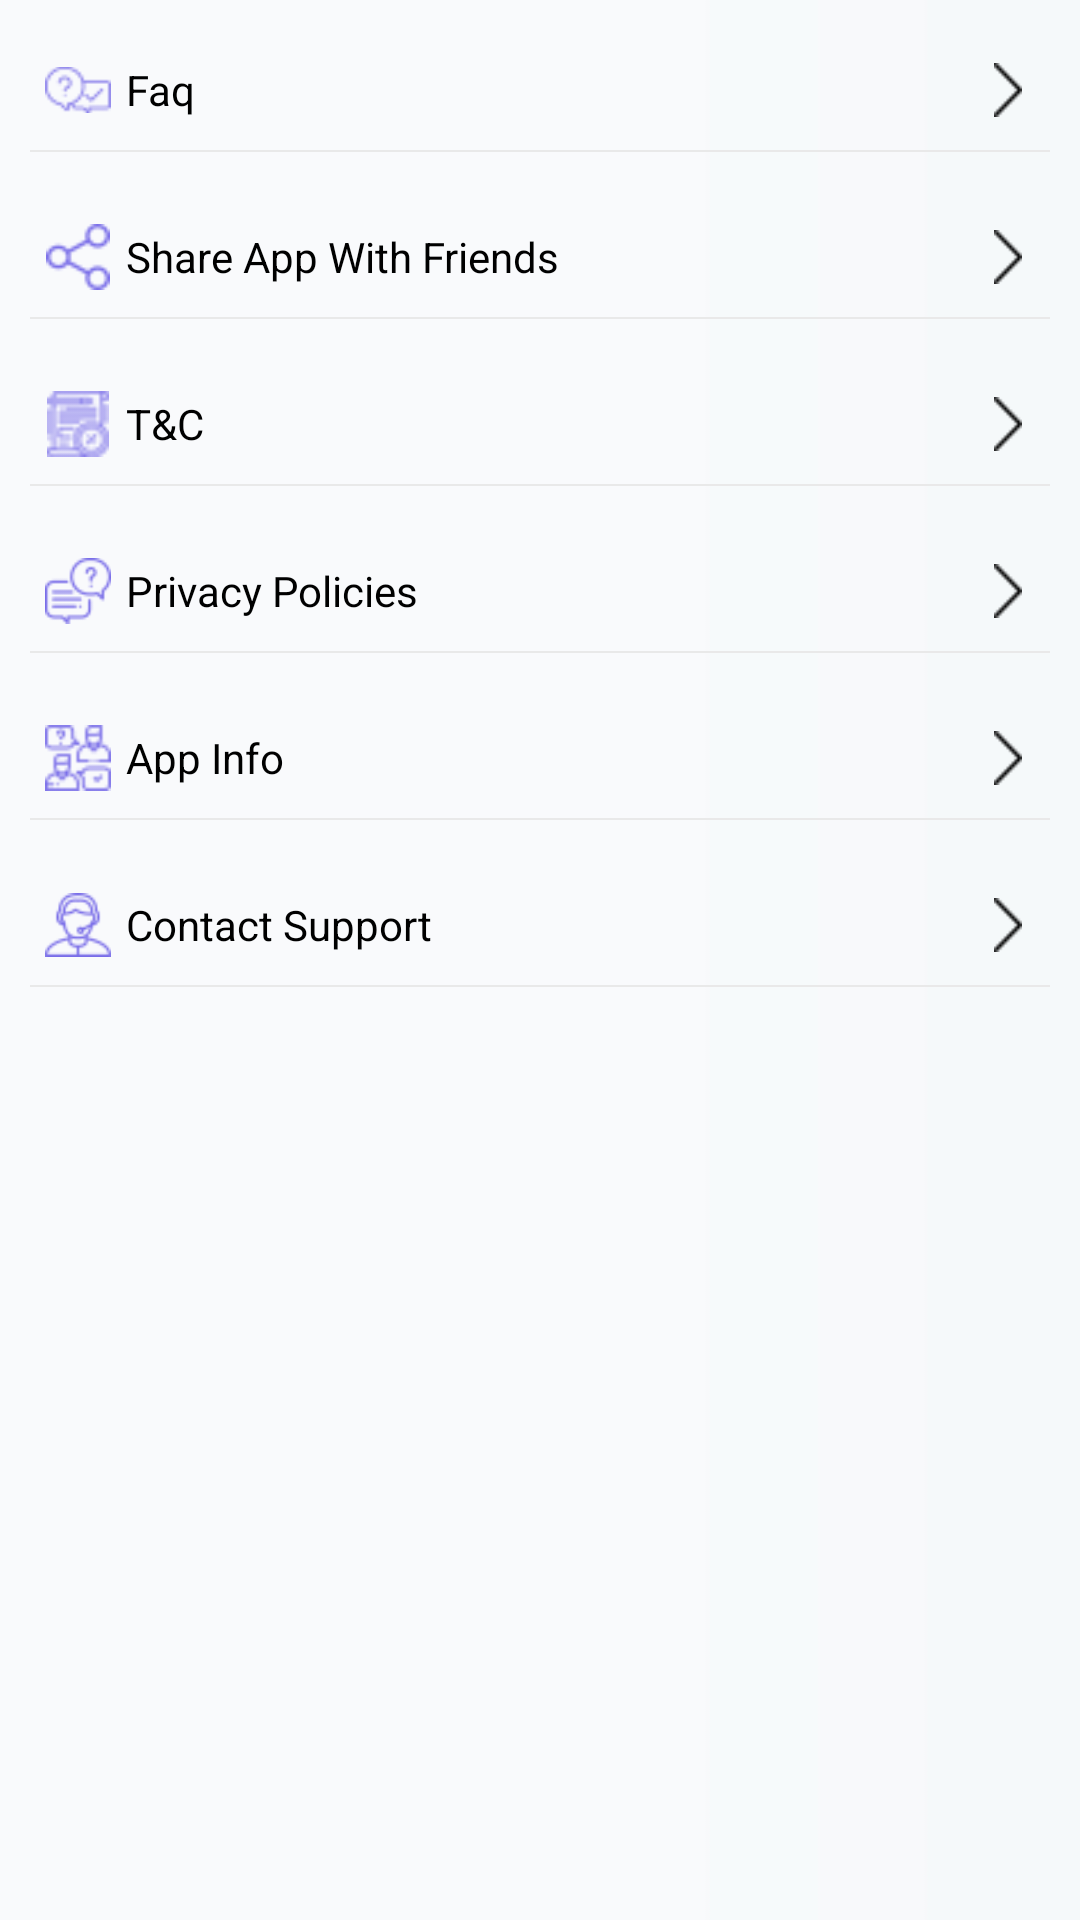

Named icons in this screenshot (1080 × 1920) and their centers, (x=x, y=y):
tandc: (x=78, y=424)
